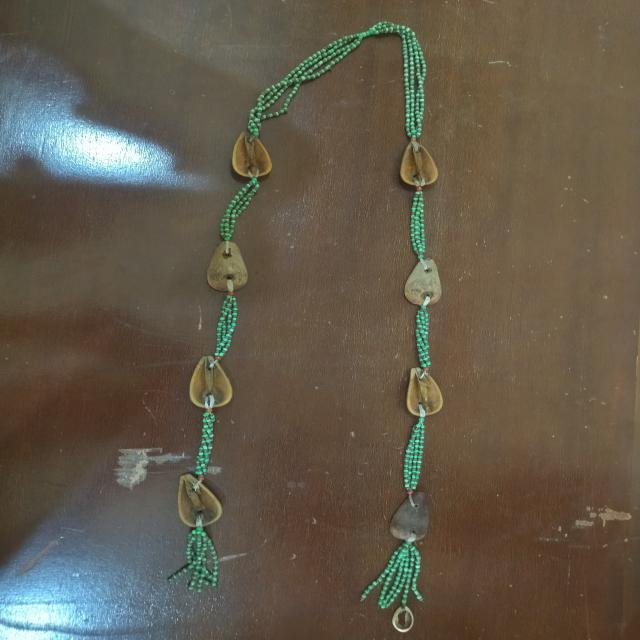facedown: (385, 481, 444, 555), (199, 234, 257, 301), (398, 246, 451, 318)
faceup: (166, 470, 231, 538), (180, 348, 239, 418), (394, 132, 446, 195), (225, 127, 278, 185), (399, 359, 449, 420)
